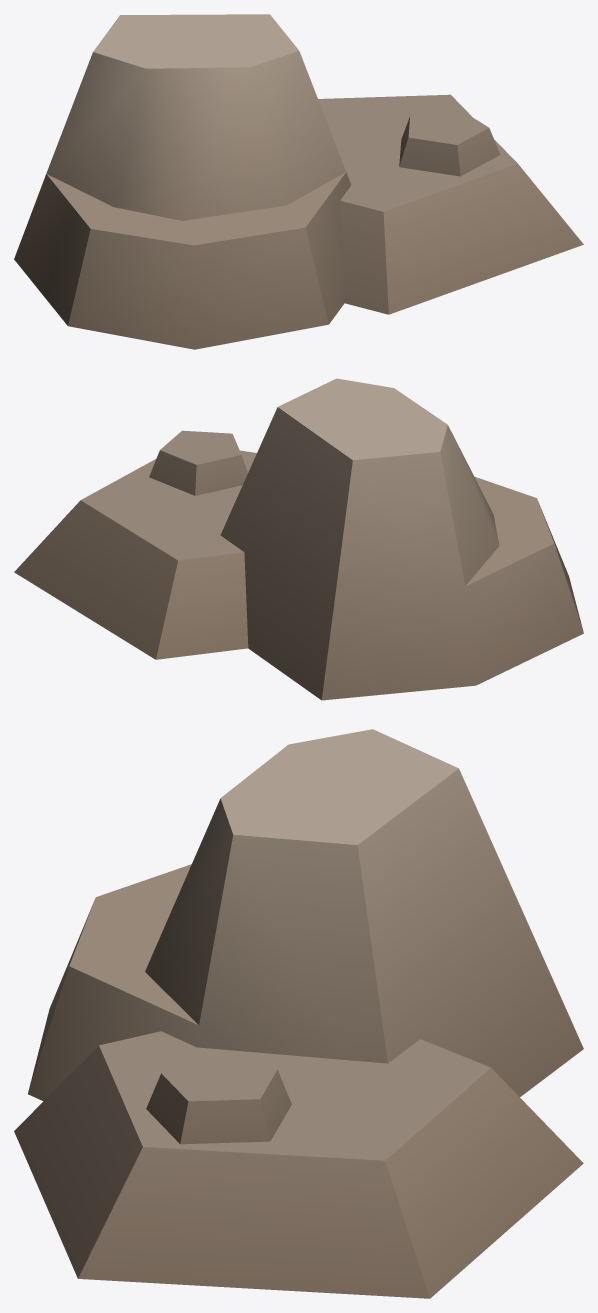
The model's file is hex_rock_single_e.glb.
3 renders of one model, top to bottom at view 1: azimuth 30°, elevation 25°; view 2: azimuth 150°, elevation 25°; view 3: azimuth 270°, elevation 25°, orthographic. The views are drawn at different scales.
Visible parts, largest first — view 1: hex_rock_single_e; view 2: hex_rock_single_e; view 3: hex_rock_single_e.
Boxes of the visible parts, x1,y1,x2,y2 form: hex_rock_single_e: (14,14,583,349); hex_rock_single_e: (14,378,583,700); hex_rock_single_e: (14,729,583,1298).
Size of the model in its own units: 0.2441 by 0.0974 by 0.1738.
Materials: 1 (1 with a texture image).
